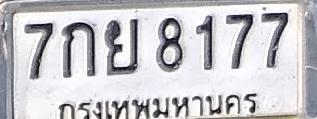1: (195, 14, 214, 70)
7: (24, 22, 54, 80), (226, 13, 253, 69), (262, 11, 288, 68)
8: (156, 16, 183, 72)
A01: (62, 20, 96, 78)
A34: (104, 18, 140, 75)
BKK: (53, 89, 264, 119)
